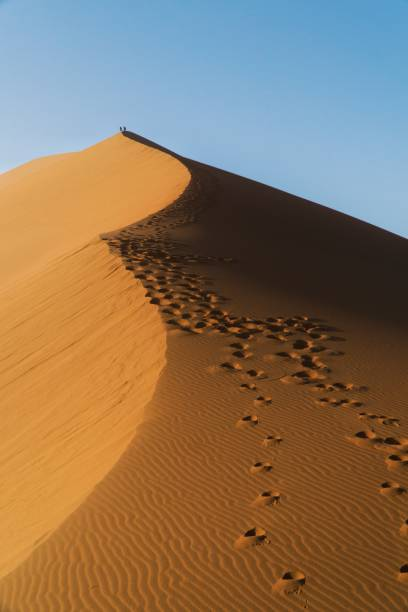human_foot_print: (139, 244, 333, 446), (346, 428, 407, 453), (272, 569, 308, 607), (276, 351, 329, 372), (273, 570, 305, 594), (235, 527, 268, 548), (280, 369, 326, 384), (346, 429, 383, 447), (311, 381, 367, 392), (358, 412, 399, 426), (315, 396, 363, 407), (252, 490, 280, 506), (379, 481, 406, 496), (385, 453, 407, 471), (249, 461, 272, 474), (236, 414, 258, 427), (261, 434, 282, 446), (220, 361, 242, 371), (246, 368, 267, 378), (232, 348, 252, 358), (253, 395, 271, 406), (397, 563, 407, 582), (229, 342, 249, 350), (399, 518, 407, 536), (239, 383, 256, 391)
